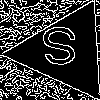S: (39, 26, 80, 74)
